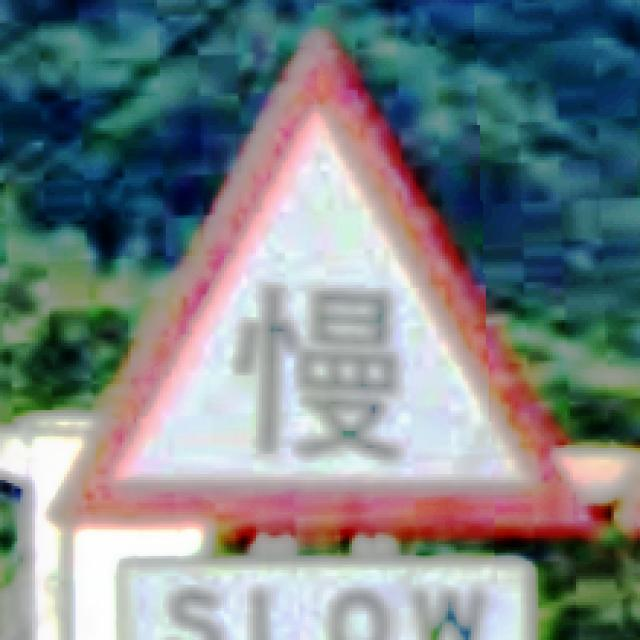slow: (55, 41, 596, 532)
